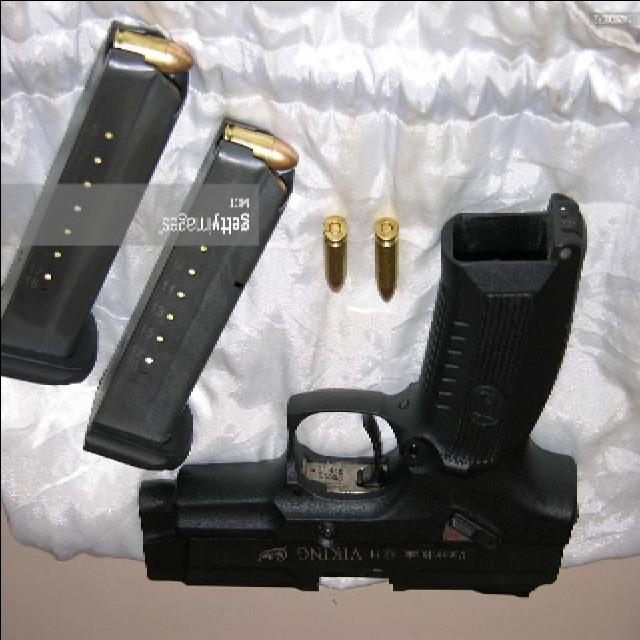handgun: (129, 192, 593, 603)
